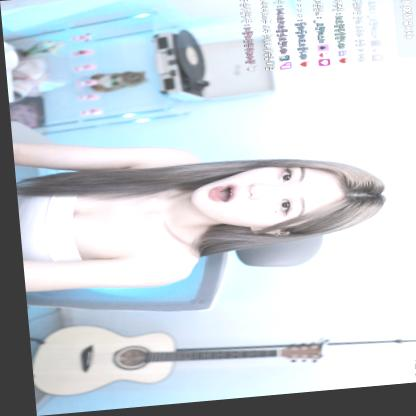streamer: (10, 112, 388, 297)
